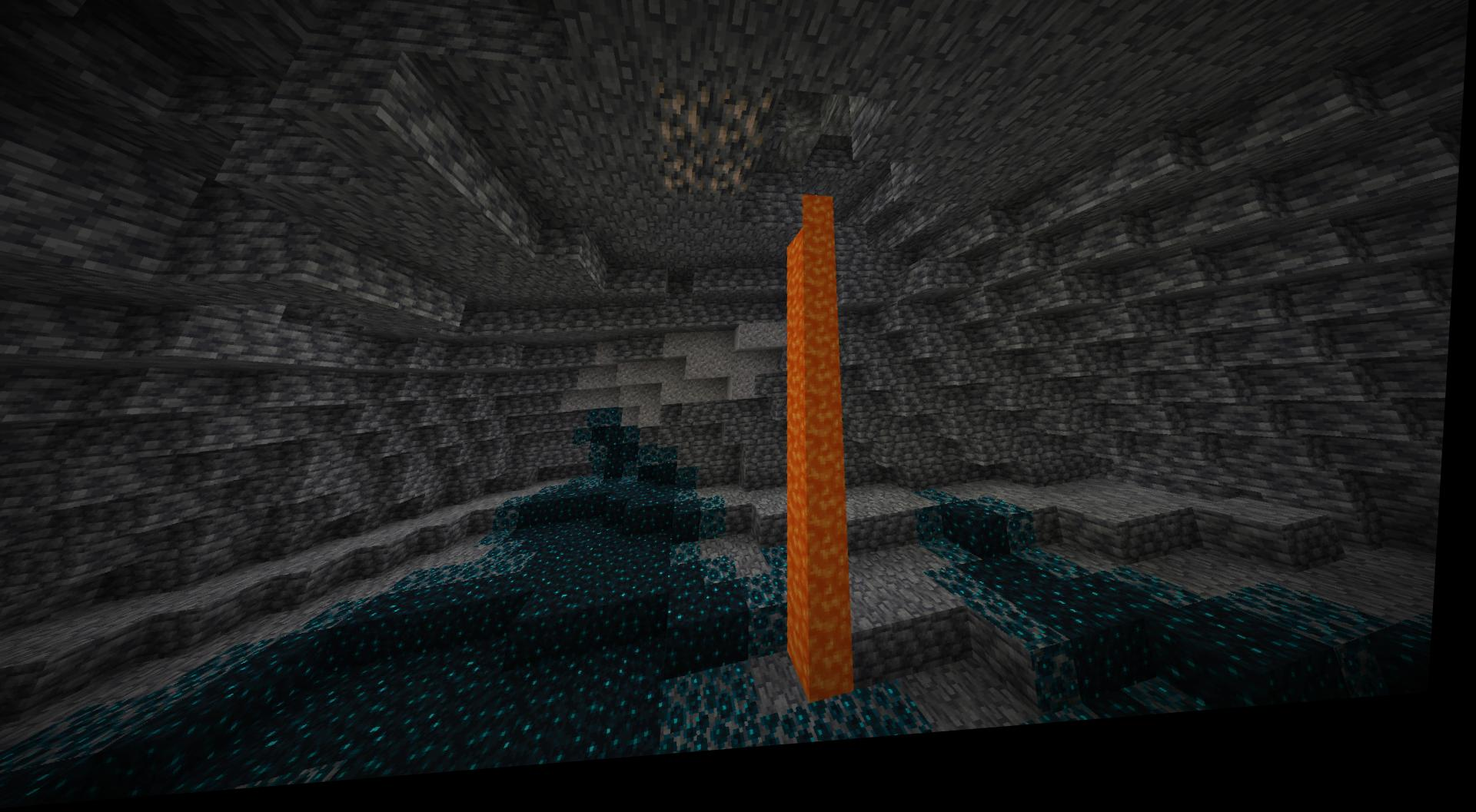iron ore: (647, 92, 719, 165), (712, 92, 774, 162), (659, 159, 713, 212), (711, 158, 757, 211)
